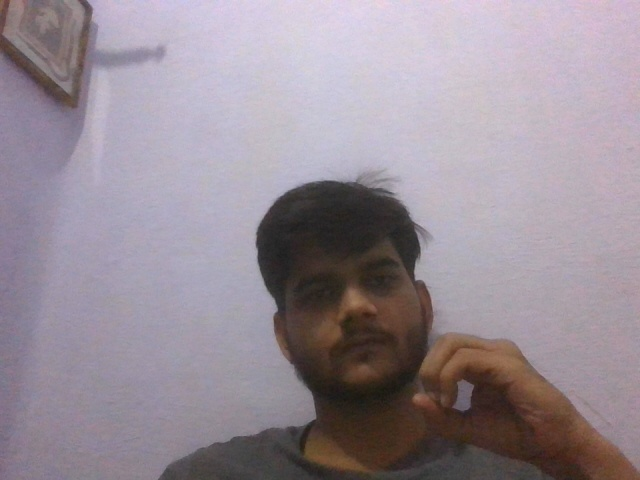no: (404, 319, 591, 468)
